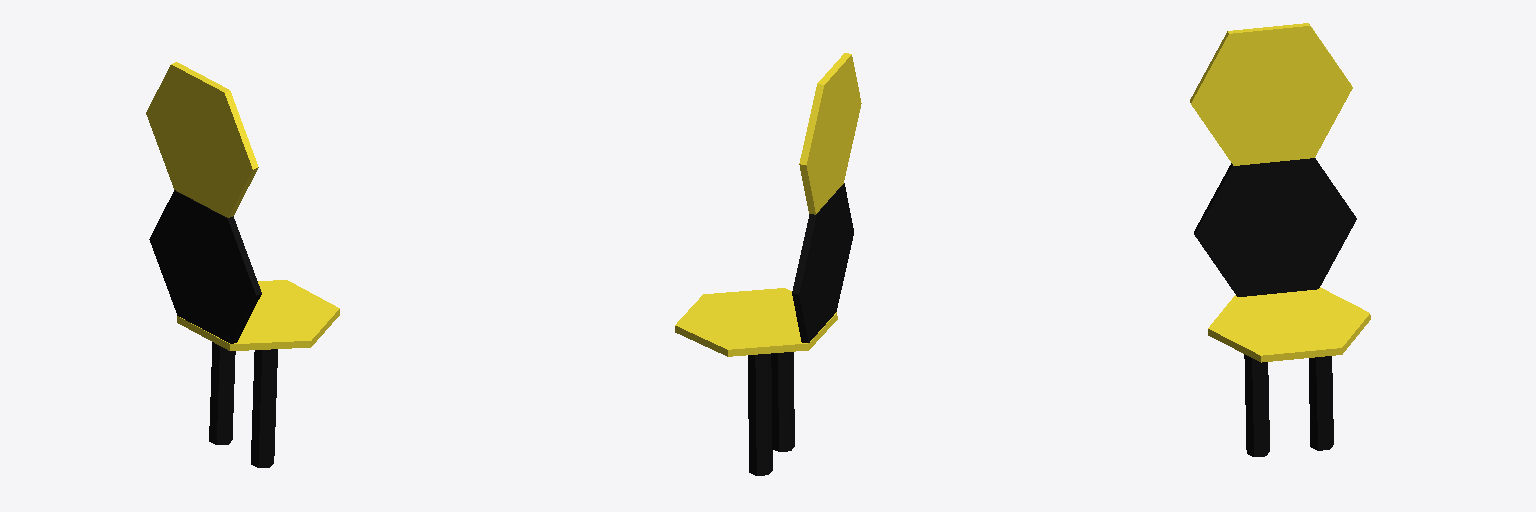
3 renders of one model, left to right at view 1: azimuth 30°, elevation 25°; view 2: azimuth 150°, elevation 25°; view 3: azimuth 270°, elevation 25°, orthographic.
Parts seen in each view (by area): view 1: group[number redacted], group[number redacted], group[number redacted], group[number redacted], group[number redacted]; view 2: group[number redacted], group[number redacted], group[number redacted], group[number redacted], group[number redacted]; view 3: group[number redacted], group[number redacted], group[number redacted], group[number redacted], group[number redacted].
Part boxes in pixels (left/top/right/bottom): group[number redacted]: left=146, top=62, right=258, bottom=217; group[number redacted]: left=149, top=190, right=261, bottom=343; group[number redacted]: left=177, top=280, right=339, bottom=350; group[number redacted]: left=251, top=349, right=277, bottom=467; group[number redacted]: left=209, top=342, right=235, bottom=444; group[number redacted]: left=675, top=288, right=837, bottom=356; group[number redacted]: left=799, top=53, right=861, bottom=214; group[number redacted]: left=792, top=183, right=853, bottom=342; group[number redacted]: left=748, top=354, right=772, bottom=475; group[number redacted]: left=771, top=352, right=794, bottom=451; group[number redacted]: left=1190, top=23, right=1352, bottom=165; group[number redacted]: left=1194, top=158, right=1356, bottom=296; group[number redacted]: left=1208, top=287, right=1370, bottom=362; group[number redacted]: left=1244, top=354, right=1269, bottom=456; group[number redacted]: left=1309, top=356, right=1333, bottom=450.
Size of the model in its own units: 0.2147 by 0.5492 by 0.2268.